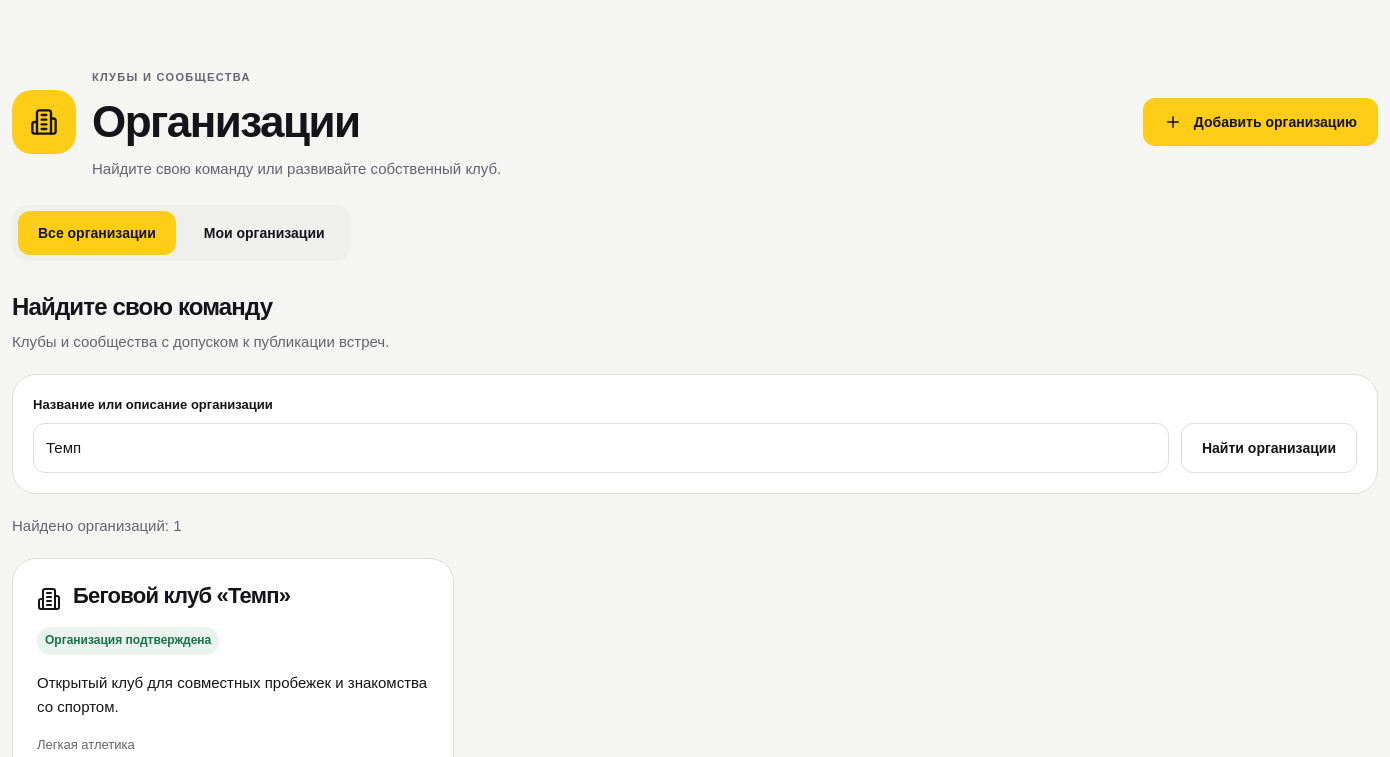
Test: organization UI › preserves directory search when switching between catalogue and owned organizations
Expected: the field labelled "Название или описание организации" holds "Темп", [33,423,1169,473]
Click the link "Мои организации" at (264, 233), box [204,225,325,241]
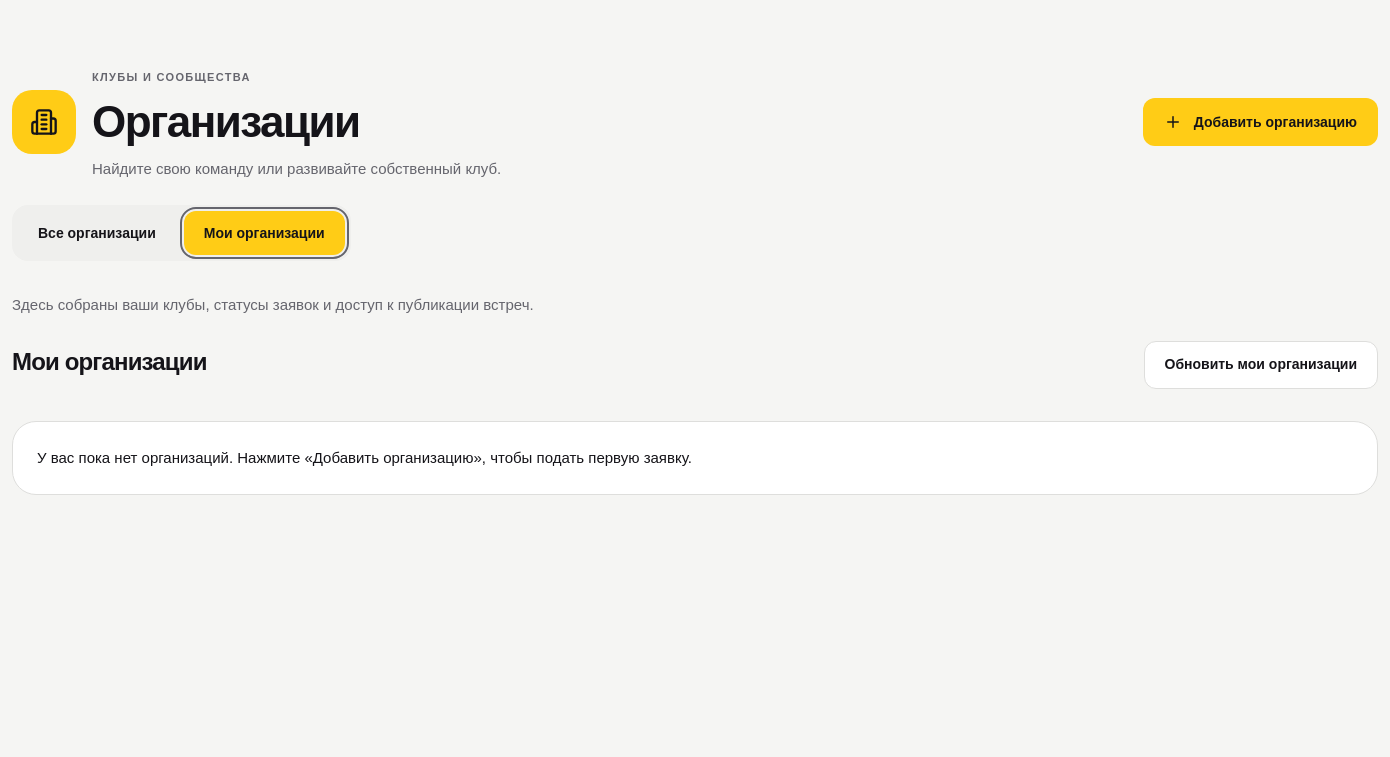
Expected: the heading "Мои организации" is shown, [12,348,207,377]
Click the link "Все организации" at (97, 233), box [38,225,156,241]
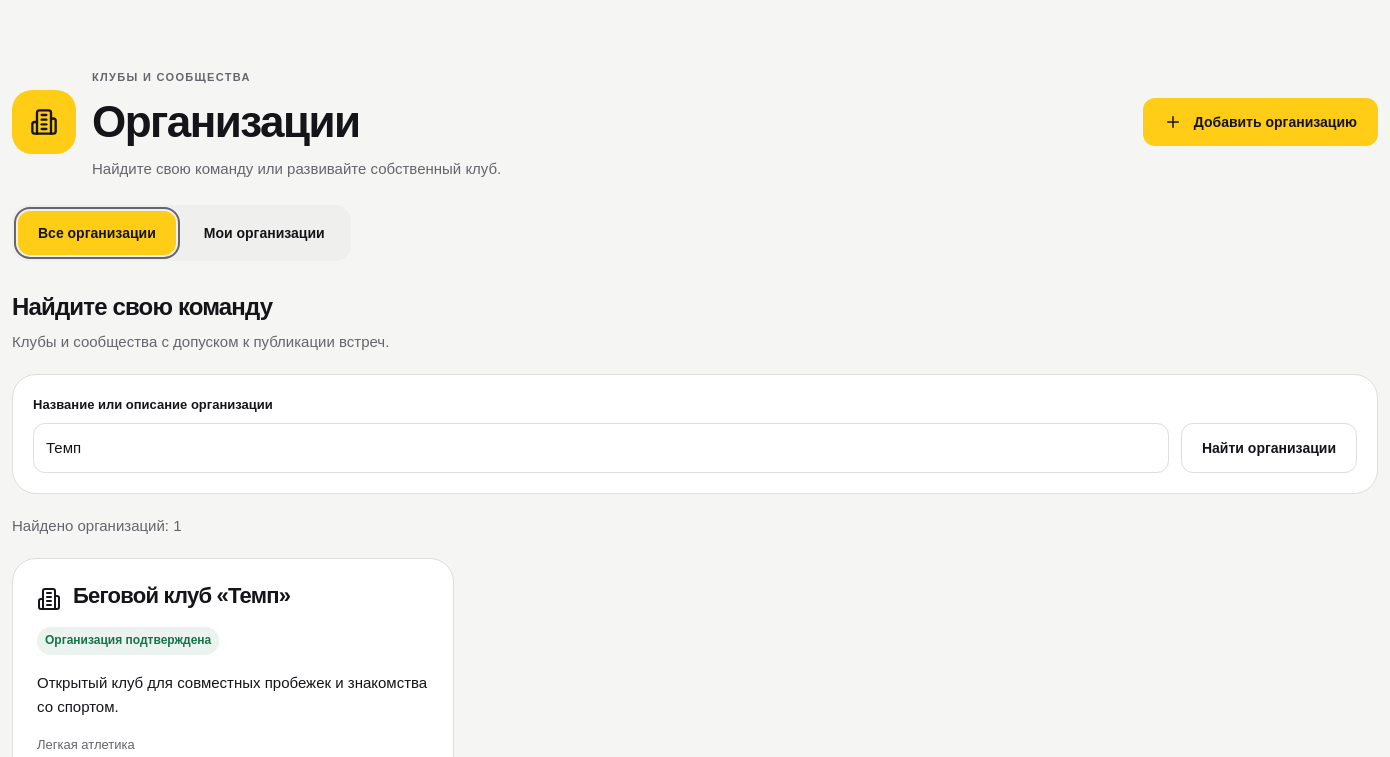
Expected: the field labelled "Название или описание организации" holds "Темп", [33,423,1169,473]
